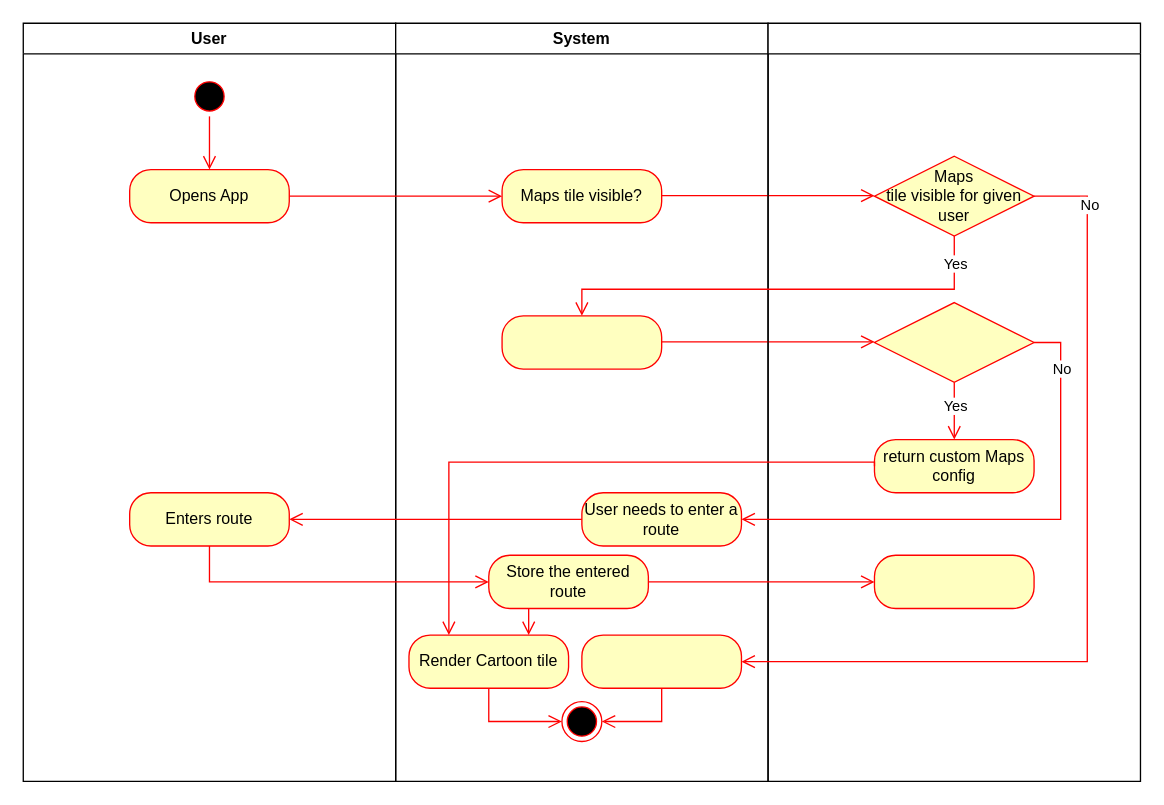
Some shapes in this 1164 by 805 pixel diagram are drawn without their labels. Here are the shapes that lost their labels. From the top down, the box of each, then its label:
(501, 315, 662, 369): Custom configuration available?
(873, 301, 1034, 382): custom config for given user
(767, 22, 1140, 781): Database
(873, 554, 1034, 608): Store custom route
(581, 634, 741, 688): Do not render the Maps tile
